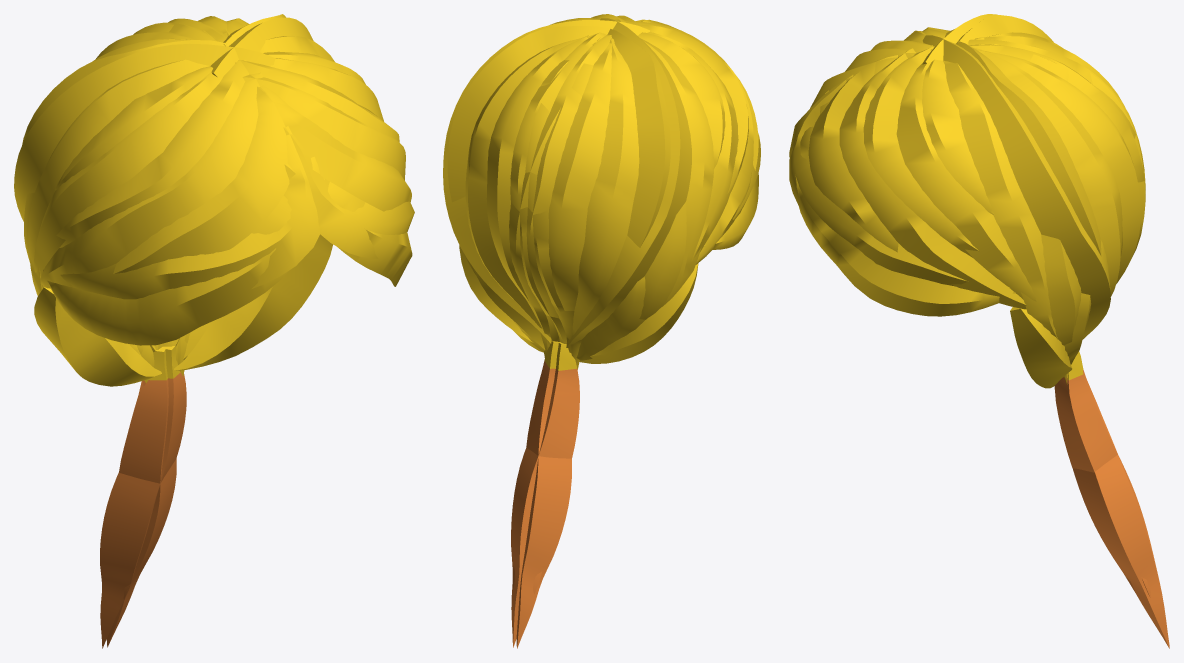
File: HairTest.glb
3 views of the same model, side by side, from view 1: azimuth 30°, elevation 25°; view 2: azimuth 150°, elevation 25°; view 3: azimuth 270°, elevation 25° (orthographic). The views are drawn at different scales.
Visible parts, largest first — view 1: Object_2; view 2: Object_2; view 3: Object_2.
Boxes of the visible parts, left/top/right/bottom form: Object_2: left=14, top=14, right=414, bottom=648; Object_2: left=443, top=14, right=760, bottom=648; Object_2: left=789, top=14, right=1169, bottom=648.
Bounding box in the file's own units: 0.578 × 1.19 × 0.6699.
1 material, 1 textured.
